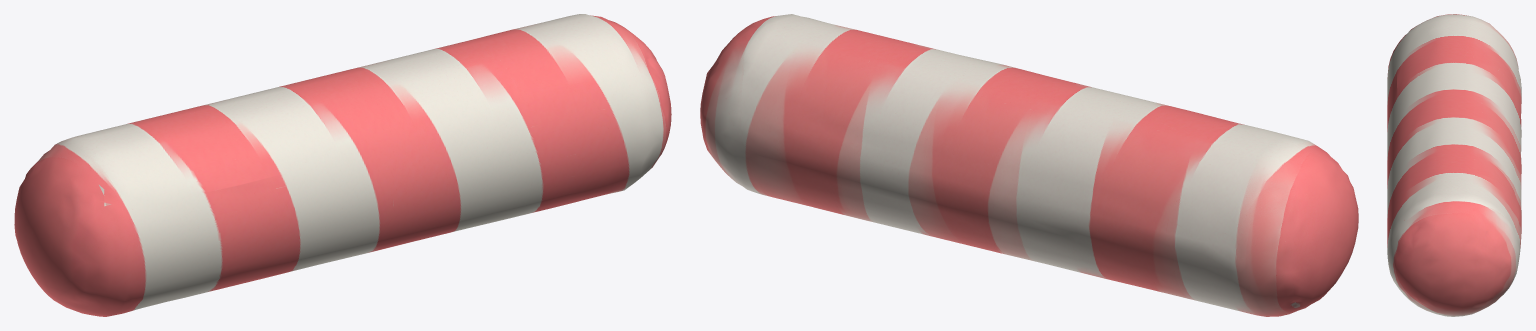
File: bumper.glb
3 views of the same model, side by side, from view 1: azimuth 30°, elevation 25°; view 2: azimuth 150°, elevation 25°; view 3: azimuth 270°, elevation 25° (orthographic). The views are drawn at different scales.
Size of the model in its own units: 0.9536 by 0.2407 by 0.2451.
Materials: 1 (1 with a texture image).
